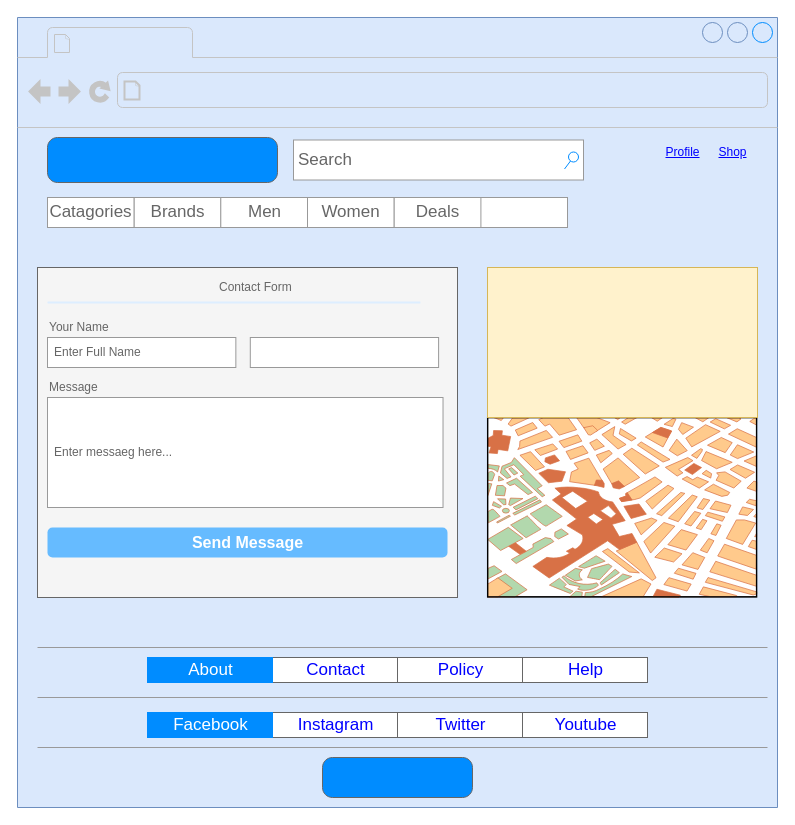
The diagram is 795 pixels wide and 825 high, and some of its shapes have lost their labels. The box of each missing label's shape, as (x1, y1, x2, y2) in pixels:
Contact US: (76, 28, 188, 56)
DesiCart @2020: (322, 756, 472, 798)
DesiCart Logo: (46, 136, 278, 182)
Email: (249, 316, 458, 338)
Enter you email: (249, 336, 439, 368)
Get in touch with us PHONE: xxxxxx EMAIL: xxxxxxx Map: (486, 266, 758, 418)
https://desicart.000webhostapp.com/contactus.html: (146, 76, 398, 104)
